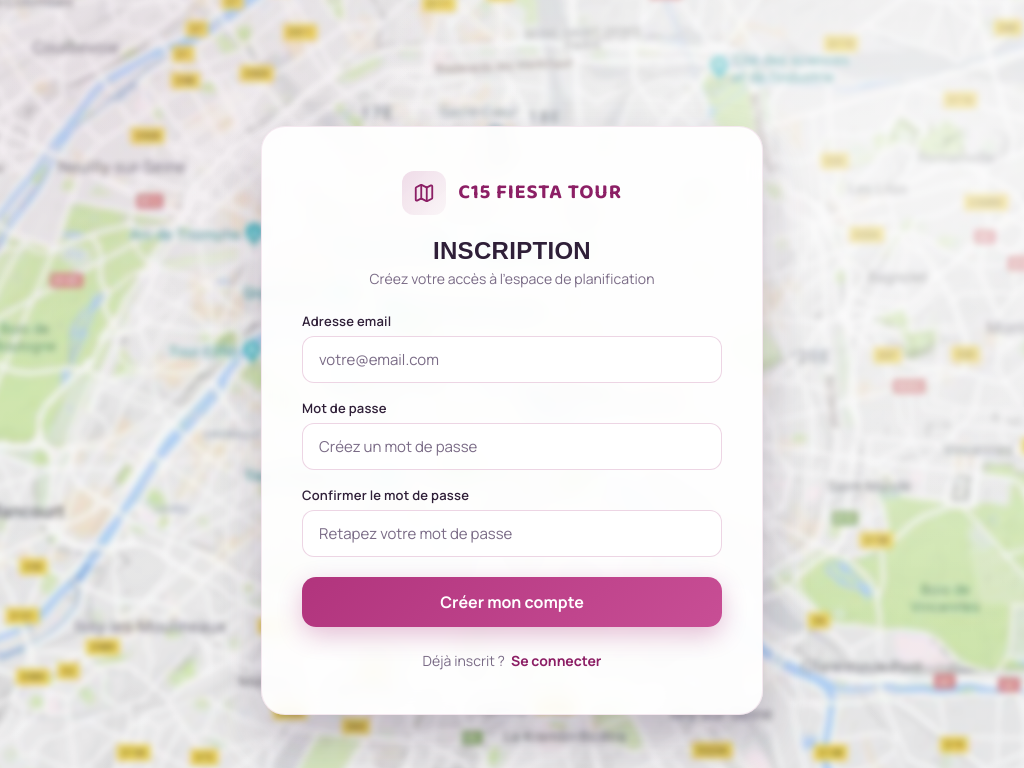
Test case: RegisterPage › affiche une erreur si le mot de passe ne respecte pas les règles de complexité
Type "john@example.com" into the field labelled "Adresse email" at (512, 359), box [302,336,722,382]
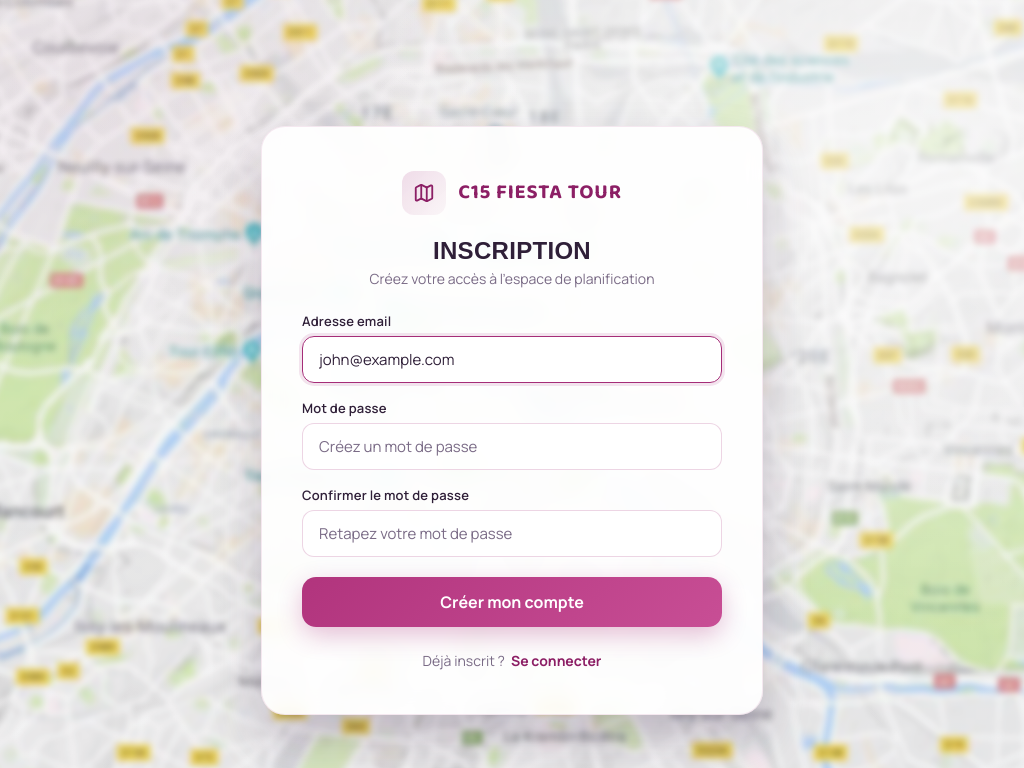
Type "password1" into the password field labelled "Mot de passe" at (512, 446), box [302,422,722,470]
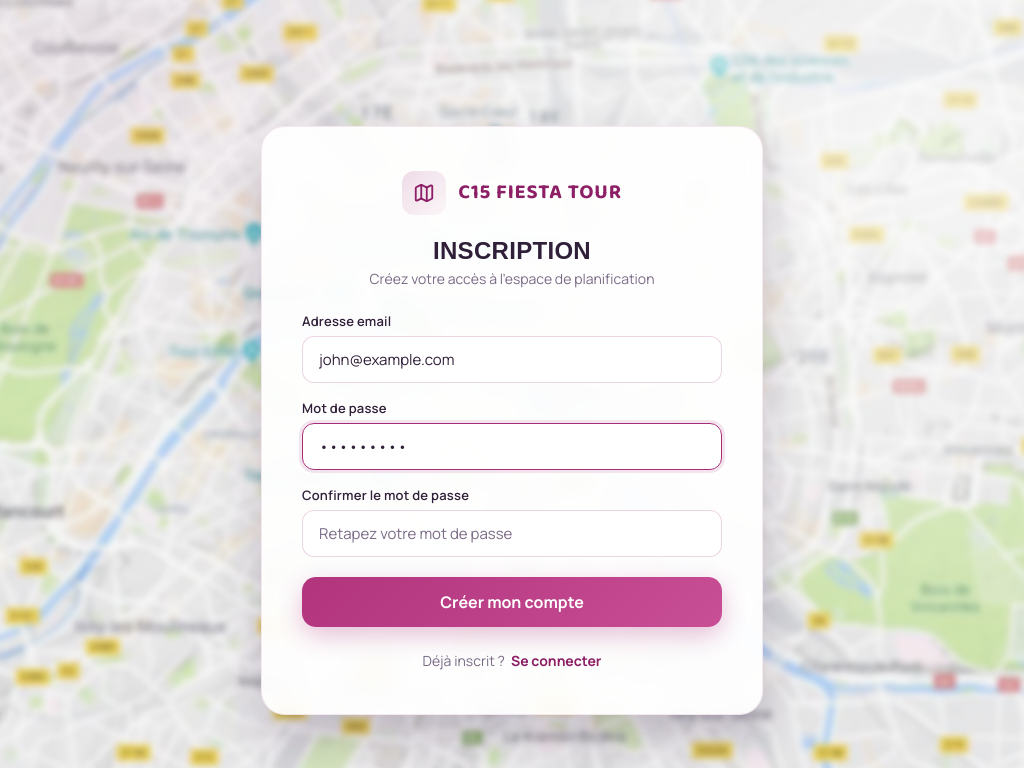
Type "password1" into the password field labelled "Confirmer le mot de passe" at (512, 533), box [302,510,722,556]
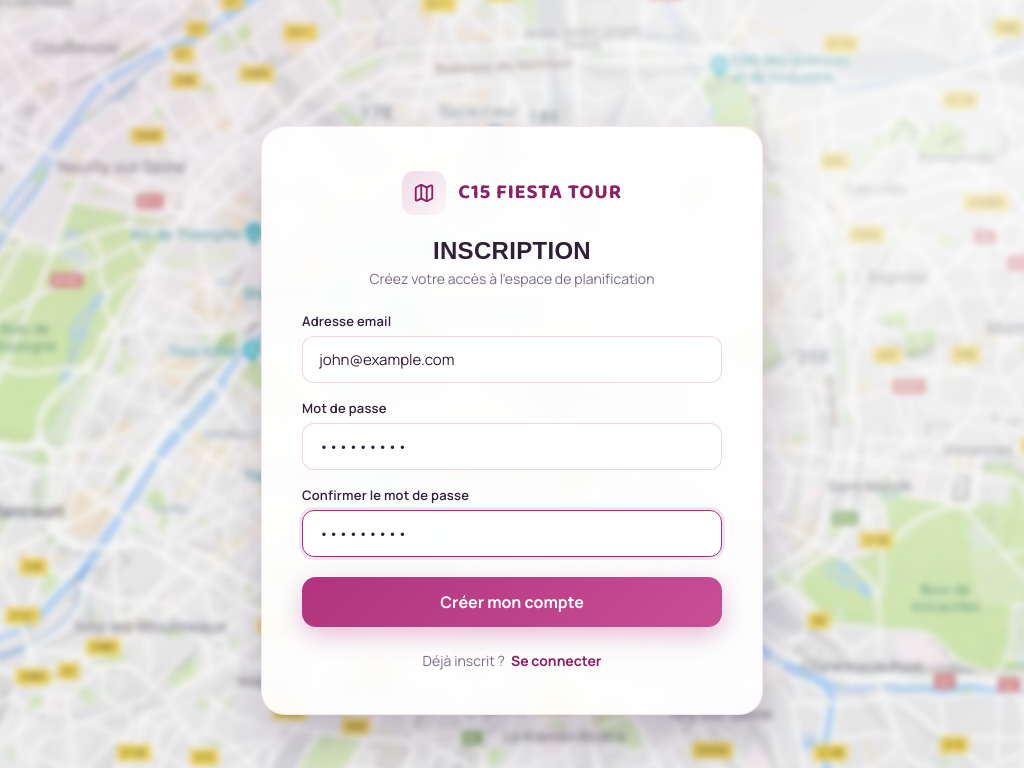
Click the button "Créer mon compte" at (512, 602), box [302,576,722,626]
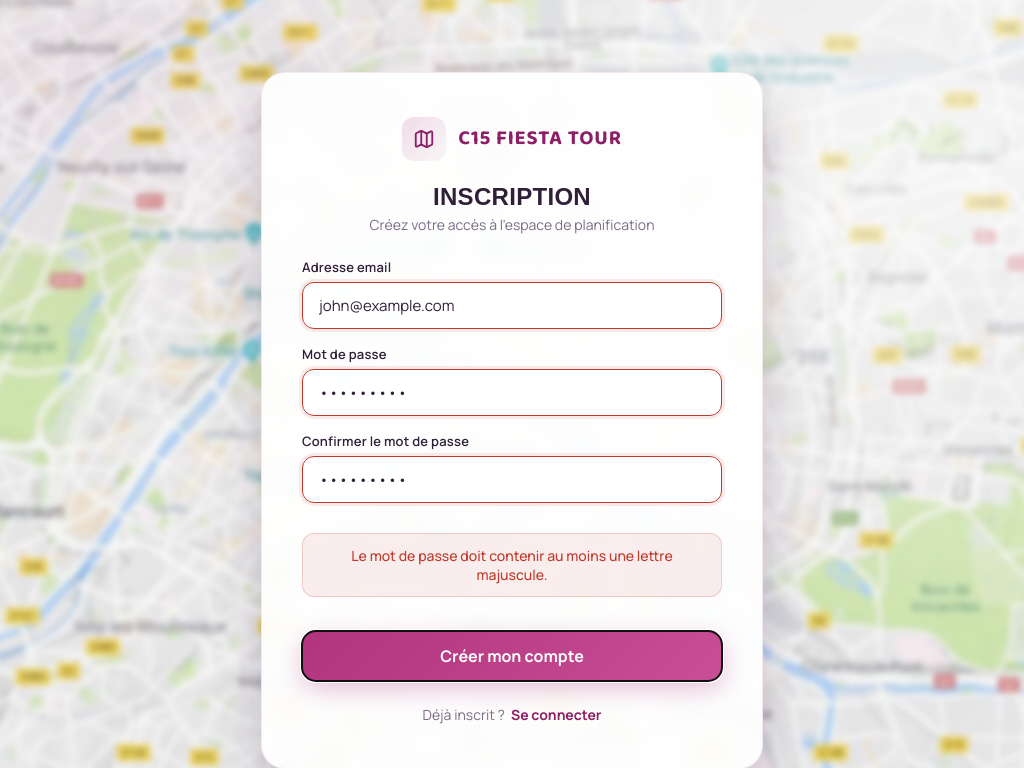
Expected: the text "Le mot de passe doit contenir au moins une lettre majuscule." is shown, [302,532,722,596]
